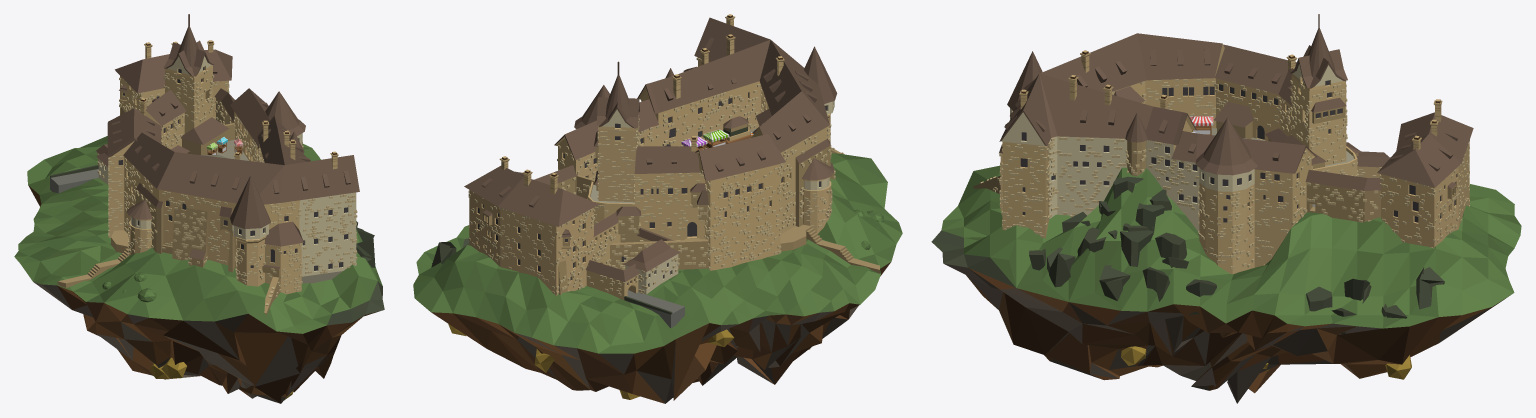
The model's file is loket.glb.
3 renders of one model, left to right at view 1: azimuth 30°, elevation 25°; view 2: azimuth 150°, elevation 25°; view 3: azimuth 270°, elevation 25°, orthographic. The views are drawn at different scales.
Parts seen in each view (by area): view 1: Plane.9342; view 2: Plane.9342; view 3: Plane.9342.
Boxes of the visible parts, box(x1,y1,x2,y2) form: Plane.9342: box(14, 14, 384, 403); Plane.9342: box(413, 14, 902, 403); Plane.9342: box(931, 14, 1521, 403).
Size of the model in its own units: 14.8 by 13.37 by 18.59.
